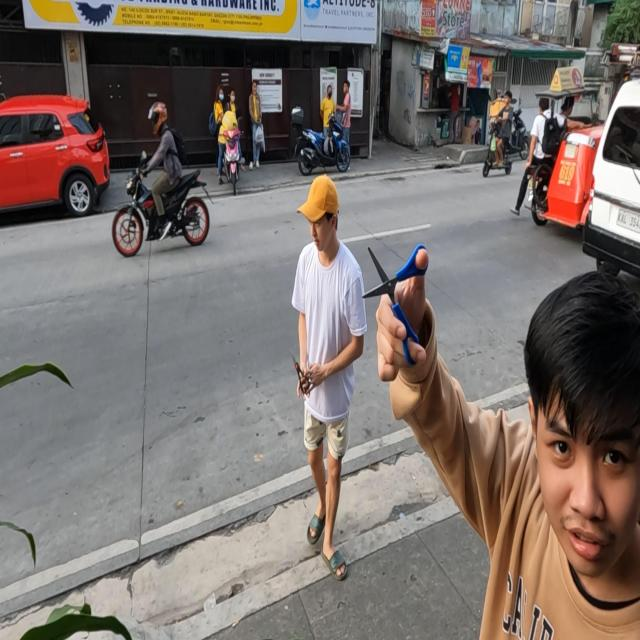scissor: (362, 243, 428, 366), (290, 348, 310, 394)
